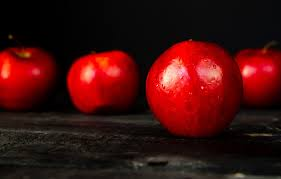apple: (148, 43, 239, 135), (69, 52, 140, 112), (2, 47, 58, 112), (234, 39, 281, 107)
